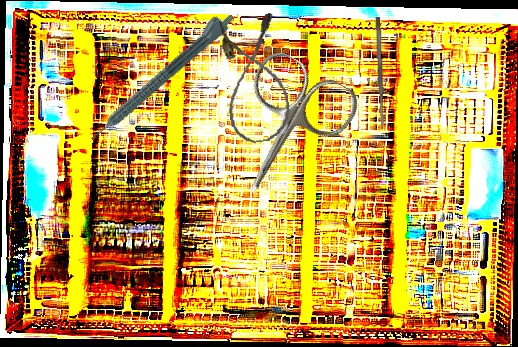Cannula: (216, 12, 294, 146)
Handpiece: (81, 5, 238, 145)
Iris Scissors: (204, 45, 365, 218)
Spatula Surgical: (375, 16, 385, 130)
